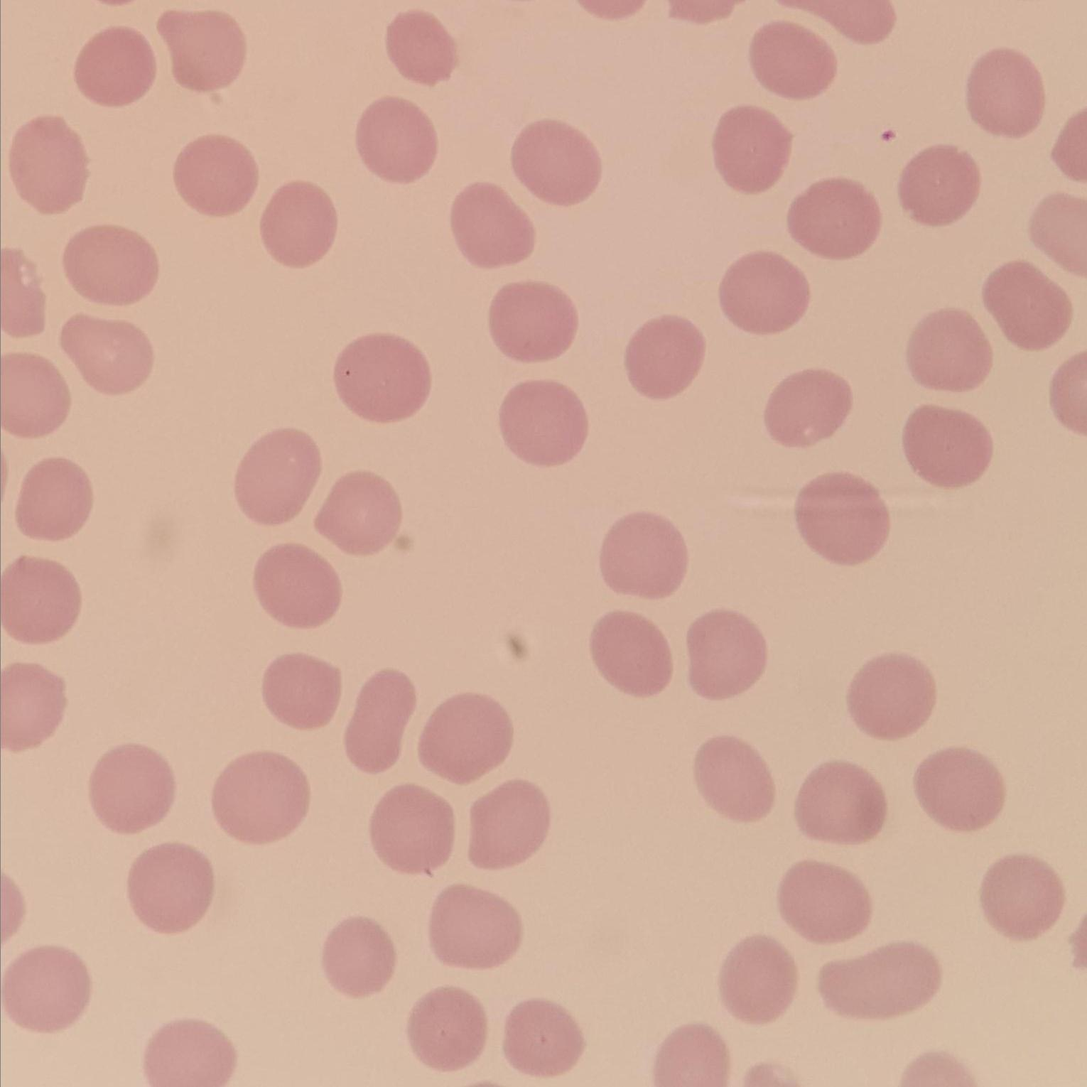Uninfected: (818, 941, 941, 1020), (333, 332, 431, 423), (212, 751, 308, 843), (416, 692, 512, 784), (233, 429, 323, 526), (777, 858, 874, 945), (794, 472, 887, 562), (427, 882, 521, 970), (982, 259, 1071, 351), (63, 223, 161, 306), (368, 783, 455, 876), (9, 114, 90, 212), (89, 743, 177, 833), (127, 842, 215, 932), (511, 119, 603, 205), (60, 314, 156, 396), (786, 178, 880, 261), (342, 669, 419, 770), (498, 379, 588, 465), (598, 512, 688, 598), (794, 760, 885, 845), (157, 9, 248, 94), (906, 305, 994, 392), (847, 653, 935, 740), (977, 852, 1065, 939), (252, 543, 342, 628), (903, 404, 994, 488), (465, 779, 549, 870), (692, 735, 777, 824), (914, 748, 1003, 833), (2, 552, 85, 643), (3, 945, 90, 1031), (315, 472, 404, 556), (488, 278, 578, 361), (590, 609, 675, 696), (718, 251, 808, 333), (449, 182, 534, 268), (356, 97, 441, 183), (686, 610, 768, 699), (406, 986, 490, 1072), (173, 134, 261, 216), (763, 367, 852, 447), (966, 47, 1047, 134), (13, 454, 93, 542), (718, 934, 798, 1022), (747, 20, 836, 99), (712, 105, 793, 191), (259, 181, 339, 266), (74, 25, 157, 106), (899, 145, 981, 226), (628, 318, 707, 402), (502, 998, 583, 1077), (262, 651, 342, 730), (322, 916, 398, 997), (143, 1018, 234, 1085), (2, 352, 73, 437), (2, 661, 69, 747), (386, 10, 458, 83), (653, 1024, 730, 1085)
